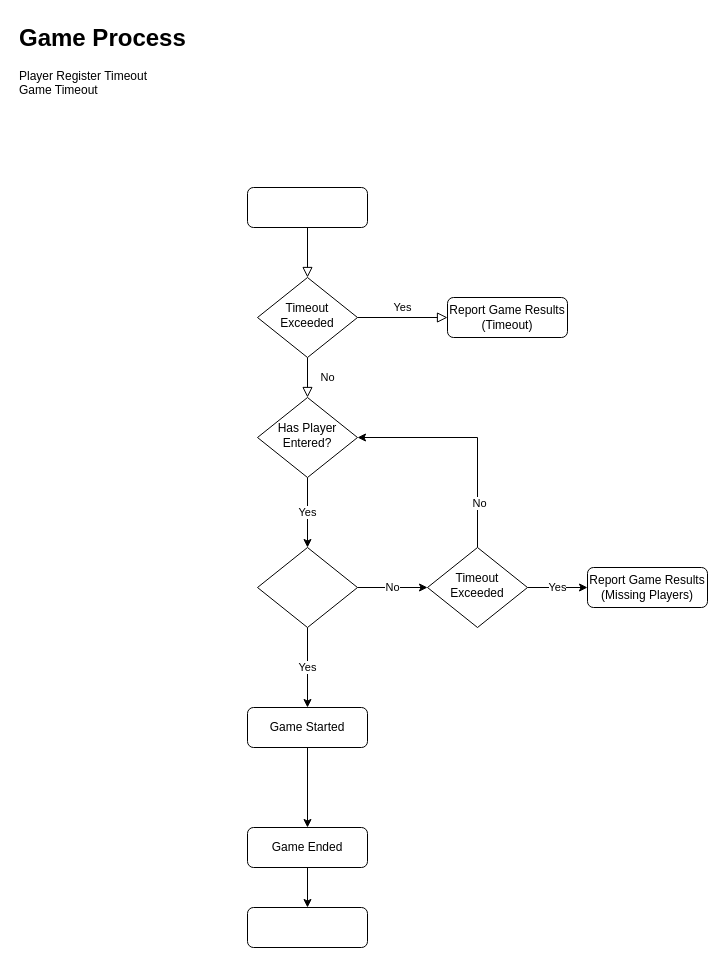
Some shapes in this 725 by 965 pixel diagram are drawn without their labels. Each missing label, with the centre of its shape:
All Players Entered: point (307, 587)
Game Server Started: point (307, 207)
Sent Game Results: point (307, 927)
